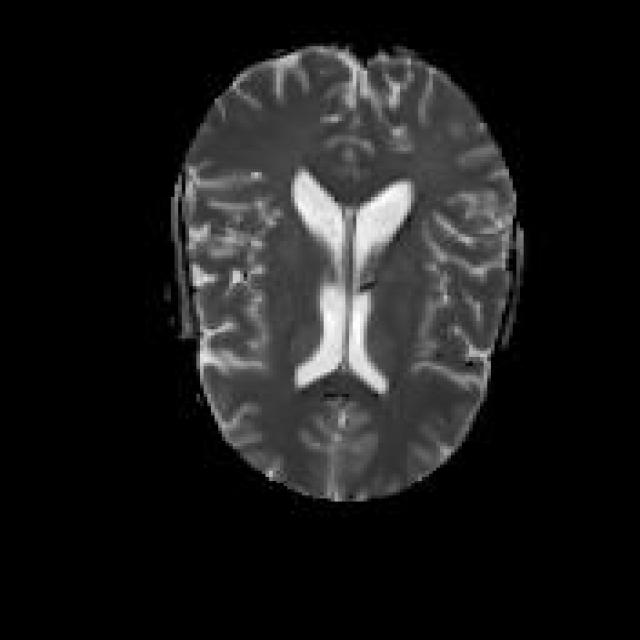CONTROL: (164, 40, 524, 502)
